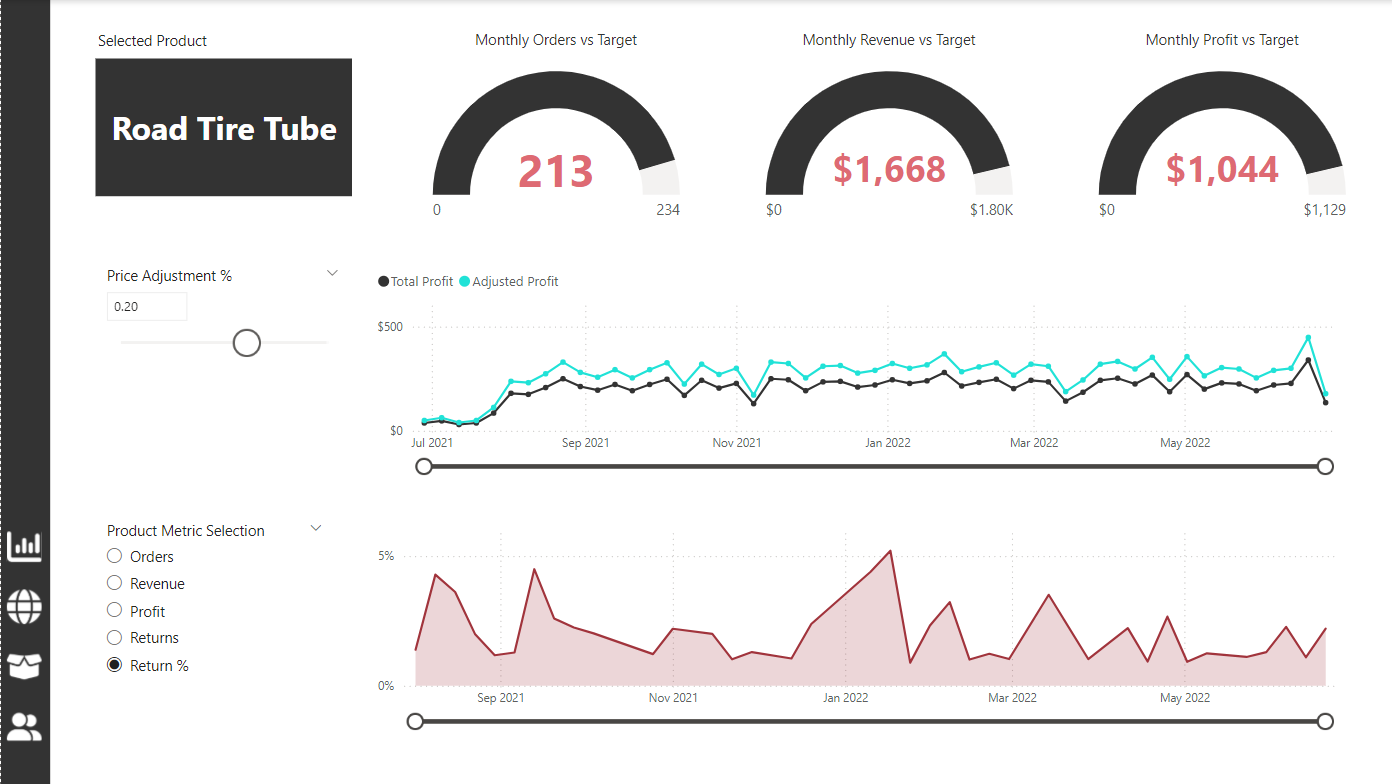

This screenshot's page, from the dashboard's own definition file:
{"tool":"powerbi","page":{"name":"Product Details","canvas":[1280,720],"ordinal":2},"visuals":[{"type":"shape","box":[0,0,45,720],"z":0},{"type":"gauge","title":"Monthly Orders vs Target","fields":{"Y":["Measure Table.Total Orders"],"MaxValue":["Measure Table.Order Target"]},"box":[389.7,26.1,236,200.4],"z":1000},{"type":"actionButton","box":[1,480.3,45.3,39.8],"z":1000,"group":"g1"},{"type":"gauge","title":"Monthly Revenue vs Target","fields":{"Y":["Measure Table.Total Revenue"],"MaxValue":["Measure Table.Revenue Target"]},"box":[694.4,26.1,236,200.4],"z":2000},{"type":"actionButton","box":[1,535.2,45.3,39.8],"z":2000,"group":"g1"},{"type":"gauge","title":"Monthly Profit vs Target","fields":{"Y":["Measure Table.Total Profit"],"MaxValue":["Measure Table.Profit Target"]},"box":[999.1,26.1,236,200.4],"z":3000},{"type":"actionButton","box":[1,590.1,45.3,39.8],"z":3000,"group":"g1"},{"type":"lineChart","title":"Profit Trending","fields":{"Category":["Calendar Lookup.Date Hierarchy.Year","Calendar Lookup.Date Hierarchy.Start of Month","Calendar Lookup.Date Hierarchy.Start of Week","Calendar Lookup.Date Hierarchy.Date"],"Y":["Measure Table.Total Profit","Measure Table.Adjusted Profit"]},"box":[339,237.4,901.6,200.4],"z":4000},{"type":"actionButton","box":[1,645,45.3,39.8],"z":4000,"group":"g1"},{"type":"areaChart","title":"Returns Trending","fields":{"Y":["Measure Table.Return Rate"],"Category":["Calendar Lookup.Date Hierarchy.Year","Calendar Lookup.Date Hierarchy.Start of Month","Calendar Lookup.Date Hierarchy.Start of Week","Calendar Lookup.Date Hierarchy.Date"]},"box":[339,470.7,901.6,200.4],"z":5000},{"type":"card","fields":{"Values":["Min(Product Lookup.ProductName)"]},"box":[86.5,53.5,234.7,126.3],"z":6000},{"type":"textbox","box":[83.7,22,164.7,38.4],"z":7000},{"type":"group","id":"g1","title":"Navigation Buttons","box":[1,480.3,45.3,204.5],"z":8000},{"type":"slicer","fields":{"Values":["Price Adjustment %.Price Adjustment %"]},"box":[83.7,237.4,237.4,152.3],"z":9000},{"type":"slicer","fields":{"Values":["Product Metric Selection.Product Metric Selection"]},"box":[83.7,470.7,222.3,168.8],"z":10000}]}

Visuals, with their boxes on the page's 1280x720 design canvas (x1, y1, x2, y2). These are canvas units, not pixel positions in the 1392x784 screenshot, which may show the page scaled, cropped or inside an application window:
shape: 0 0 45 720
"Monthly Orders vs Target" gauge: 390 26 626 226
actionButton: 1 480 46 520
"Monthly Revenue vs Target" gauge: 694 26 930 226
actionButton: 1 535 46 575
"Monthly Profit vs Target" gauge: 999 26 1235 226
actionButton: 1 590 46 630
"Profit Trending" lineChart: 339 237 1241 438
actionButton: 1 645 46 685
"Returns Trending" areaChart: 339 471 1241 671
card - Min(Product Lookup.ProductName): 86 54 321 180
textbox: 84 22 248 60
"Navigation Buttons" group: 1 480 46 685
slicer - Price Adjustment %.Price Adjustment %: 84 237 321 390
slicer - Product Metric Selection.Product Metric Selection: 84 471 306 640
